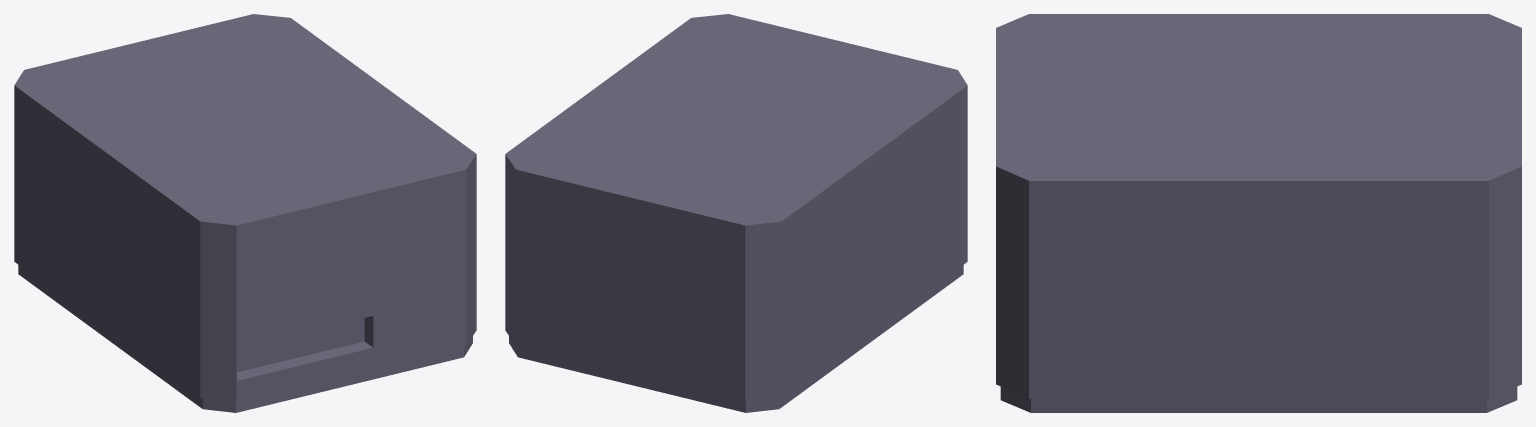
The picture shows the model from 3 angles, left to right: view 1: azimuth 30°, elevation 25°; view 2: azimuth 150°, elevation 25°; view 3: azimuth 270°, elevation 25°; orthographic projection. The views are drawn at different scales.
Parts seen in each view (by area): view 1: pasted__polySurface87; view 2: pasted__polySurface87; view 3: pasted__polySurface87.
Boxes of the visible parts, bbox=[...] form: pasted__polySurface87: bbox=[14, 14, 476, 412]; pasted__polySurface87: bbox=[505, 14, 967, 412]; pasted__polySurface87: bbox=[996, 14, 1521, 412].
Size of the model in its own units: 4.69 by 3.07 by 6.25.
